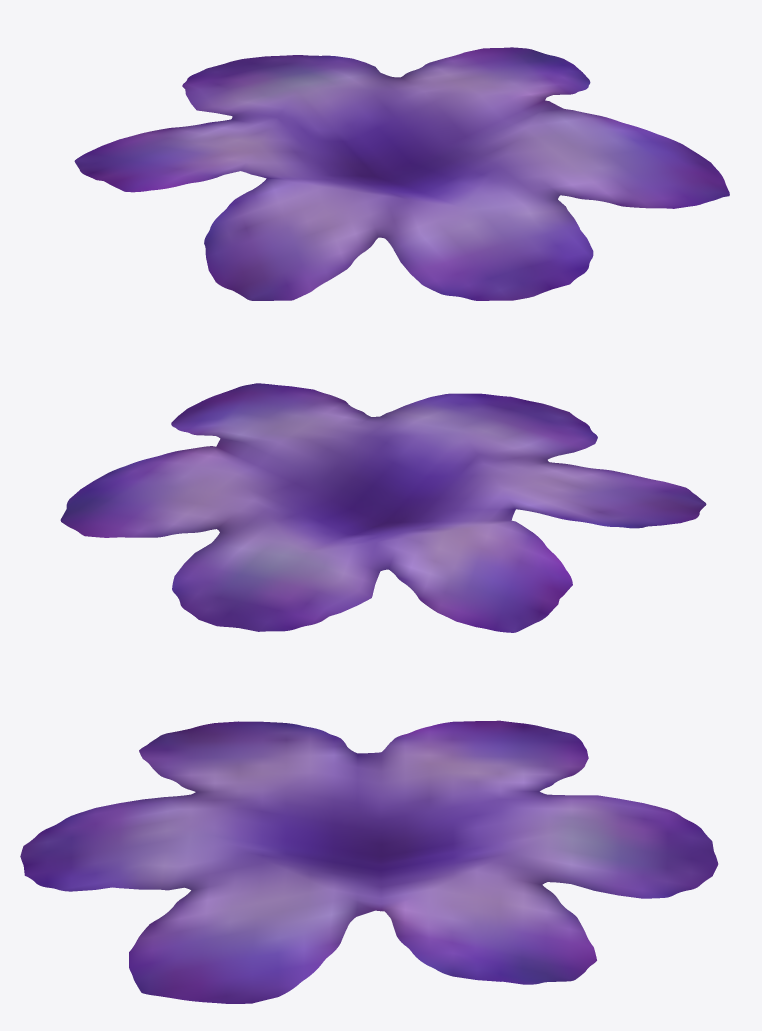
The model's file is Flower07.glb.
The picture shows the model from 3 angles, top to bottom: view 1: azimuth 30°, elevation 25°; view 2: azimuth 150°, elevation 25°; view 3: azimuth 270°, elevation 25°; orthographic projection. The views are drawn at different scales.
Visible parts, largest first — view 1: Flower07; view 2: Flower07; view 3: Flower07.
Boxes of the visible parts, x1=… form: Flower07: x1=74, y1=47, x2=729, y2=300; Flower07: x1=60, y1=383, x2=706, y2=632; Flower07: x1=20, y1=720, x2=718, y2=1003.
Bounding box in the file's own units: 0.6029 × 0.0375 × 0.6029.
1 material, 1 textured.
